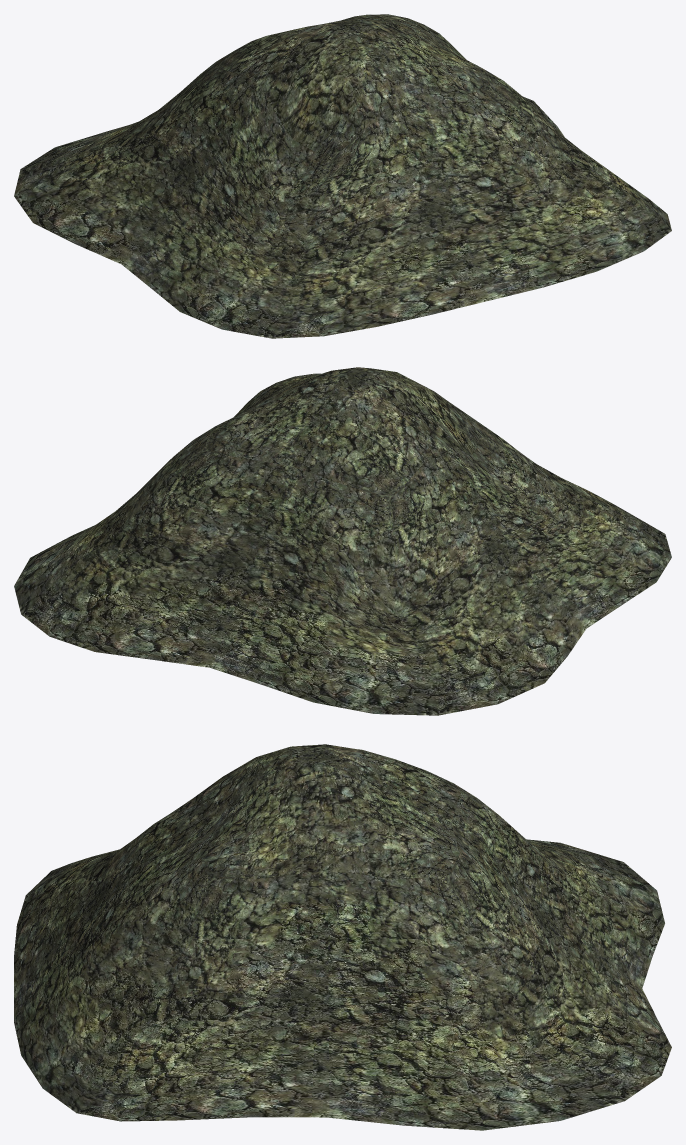
Rendered from Trashpile.FBX.
3 renders of one model, top to bottom at view 1: azimuth 30°, elevation 25°; view 2: azimuth 150°, elevation 25°; view 3: azimuth 270°, elevation 25°, orthographic. The views are drawn at different scales.
Visible parts, largest first — view 1: Box001; view 2: Box001; view 3: Box001.
Boxes of the visible parts, <box> form: Box001: <box>14,14,671,338</box>; Box001: <box>14,367,671,715</box>; Box001: <box>14,744,671,1130</box>.
Size of the model in its own units: 493 by 176 by 463.
